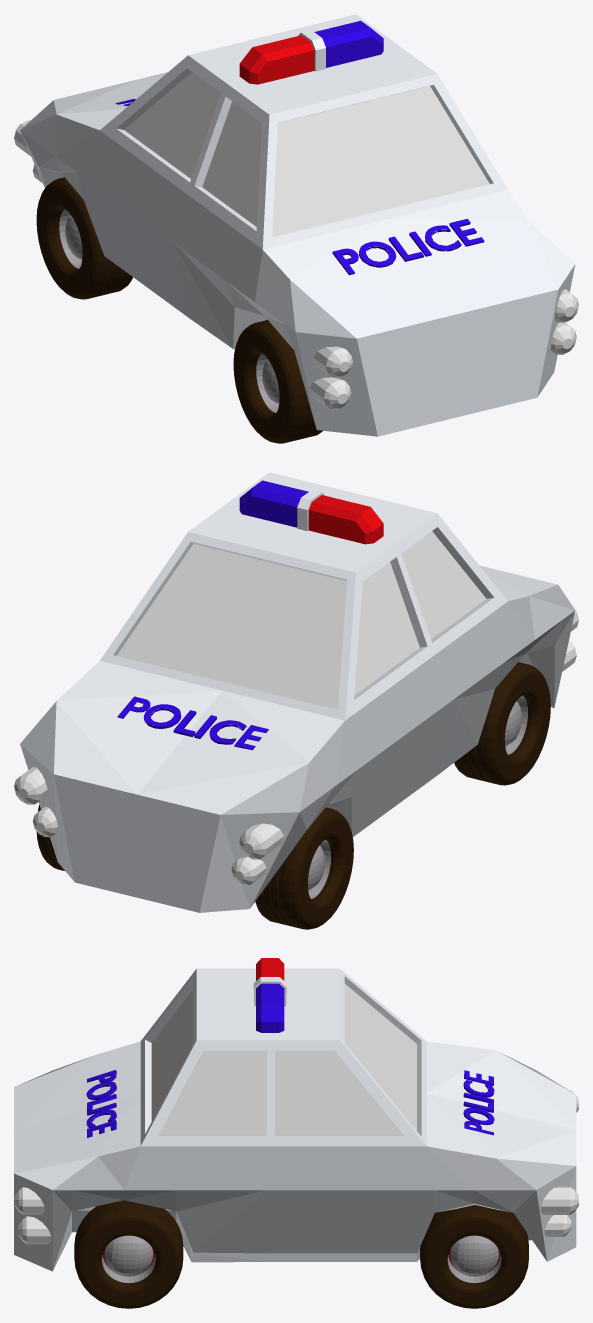
Rendered from PoliceCar.fbx_Collection.fbx.
3 views of the same model, one above another, from view 1: azimuth 30°, elevation 25°; view 2: azimuth 150°, elevation 25°; view 3: azimuth 270°, elevation 25° (orthographic). The views are drawn at different scales.
Parts seen in each view (by area): view 1: PoliceCar, LeftBackWheel, LeftFrontWheel; view 2: PoliceCar, LeftFrontWheel, LeftBackWheel; view 3: PoliceCar, RightBackWheel, RightFrontWheel.
Boxes of the visible parts, x1=… form: PoliceCar: x1=14, y1=14, x2=578, y2=436; LeftBackWheel: x1=233, y1=320, x2=322, y2=443; LeftFrontWheel: x1=36, y1=177, x2=132, y2=299; PoliceCar: x1=14, y1=472, x2=578, y2=912; LeftFrontWheel: x1=255, y1=807, x2=353, y2=929; LeftBackWheel: x1=454, y1=662, x2=550, y2=785; PoliceCar: x1=14, y1=958, x2=578, y2=1271; RightBackWheel: x1=74, y1=1200, x2=183, y2=1308; RightFrontWheel: x1=420, y1=1205, x2=528, y2=1308.
Size of the model in its own units: 200 by 215 by 399.
